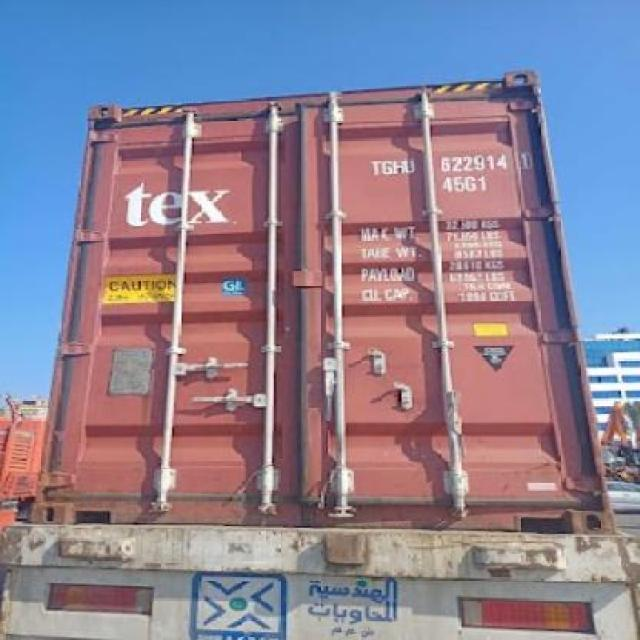ISO: (441, 176, 488, 193)
container_number: (373, 150, 534, 173)
